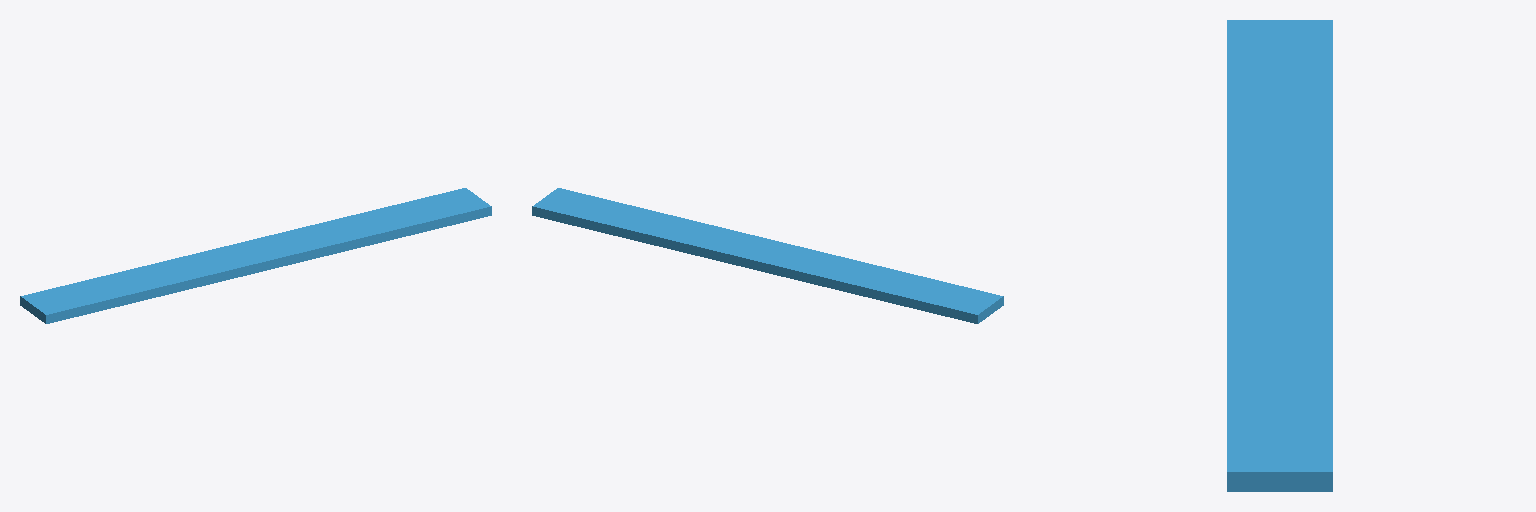
URDF robot description (conveyor_belt):
<?xml version="1.0"?>
<robot name="conveyor_belt">

<!-- conveyor belt is just a long flat box for objects to slide on it -->

<!-- world link -->
<link name="world"/>

<!-- base_link and its fixed joint -->
<joint name="joint_fix" type="fixed">
  <parent link="world"/>
  <child link="base_link"/>
</joint>

<link name="base_link">
  <collision>
    <origin xyz="0 0 0.1" rpy="0 0 0"/>
    <geometry>
      <box size="10 1 0.2"/>
    </geometry>
  </collision>

  <visual>
    <origin xyz="0 0 0.1" rpy="0 0 0"/>
    <geometry>
      <box size="10 1 0.2"/>
    </geometry>
  </visual>

  <inertial>
    <origin xyz="0 0 0.1" rpy="0 0 0"/>
    <mass value="1"/>
    <inertia
      ixx="1.0" ixy="0.0" ixz="0.0"
      iyy="1.0" iyz="0.0"
      izz="1.0"/>
  </inertial>
</link>

<gazebo reference="base_link">
  <mu1>0</mu1>
  <mu2>0</mu2>
  <material>Gazebo/FlatBlack</material>
</gazebo>

</robot>

--- Facts derived from the render (not from the file) ---
The picture shows the robot from 3 angles, left to right: view 1: azimuth 30°, elevation 25°; view 2: azimuth 150°, elevation 25°; view 3: azimuth 270°, elevation 25°; orthographic projection.
Robot: conveyor_belt — 2 links, 1 joints (1 fixed); root link world; default pose: all joints at 0.
Visible links, largest first — view 1: base_link; view 2: base_link; view 3: base_link.
Boxes of the visible links, box(x1,y1,x2,y2) form: base_link: box(20, 188, 491, 323); base_link: box(532, 188, 1003, 323); base_link: box(1227, 20, 1332, 491).
Size in the robot's own frame: 10 by 1 by 0.2 metres.
Geometry: primitives only (box / cylinder / sphere), no mesh files.
